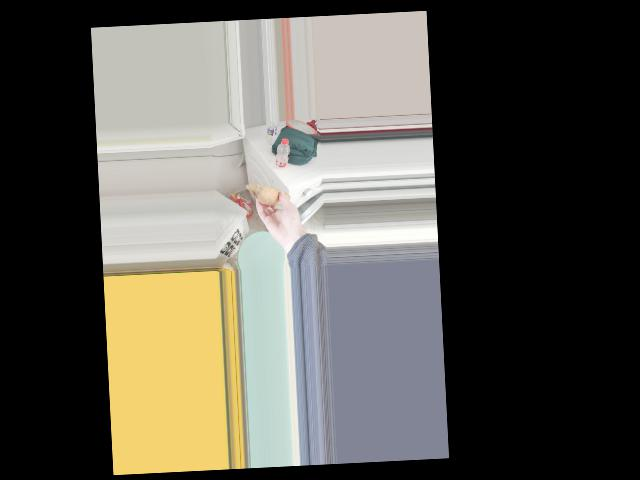sweet_potato: (257, 185, 285, 205)
